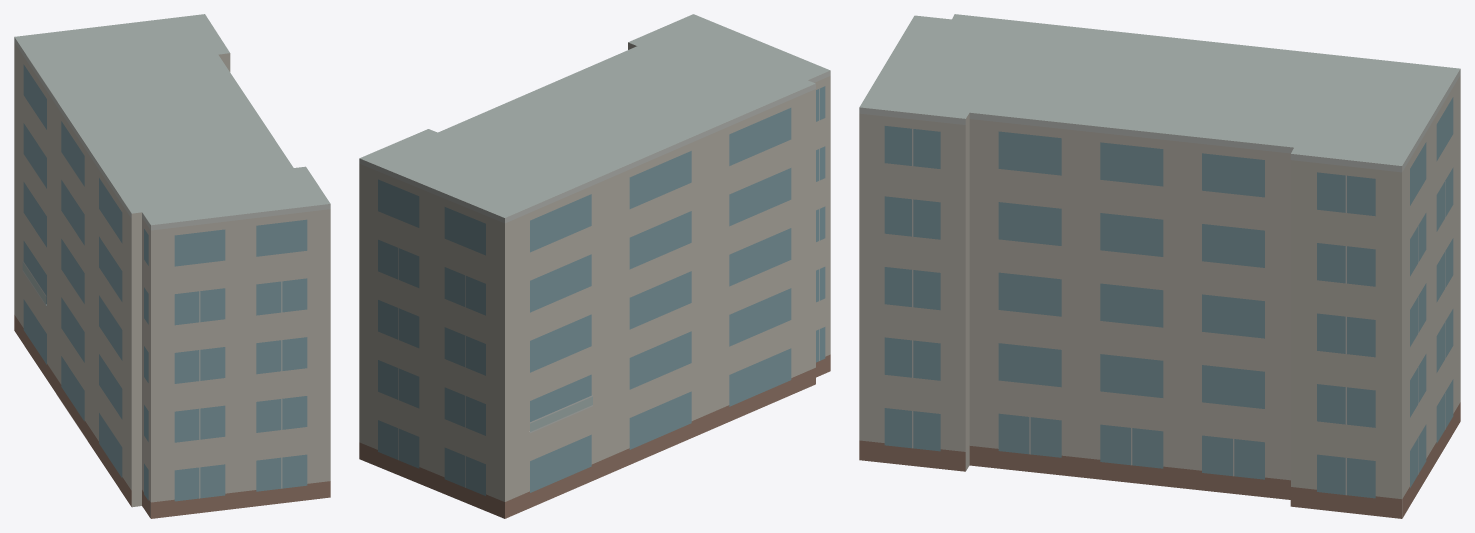
File: survey-upis-32640755.glb
3 renders of one model, left to right at view 1: azimuth 30°, elevation 25°; view 2: azimuth 150°, elevation 25°; view 3: azimuth 270°, elevation 25°, orthographic. The views are drawn at different scales.
Parts seen in each view (by area): view 1: survey-upis-32640755.tmp; view 2: survey-upis-32640755.tmp; view 3: survey-upis-32640755.tmp.
Part boxes in pixels (<box>): survey-upis-32640755.tmp: <box>14,14,330,518</box>; survey-upis-32640755.tmp: <box>359,14,830,518</box>; survey-upis-32640755.tmp: <box>859,14,1460,518</box>.
Size of the model in its own units: 12.68 by 13.7 by 21.17.
